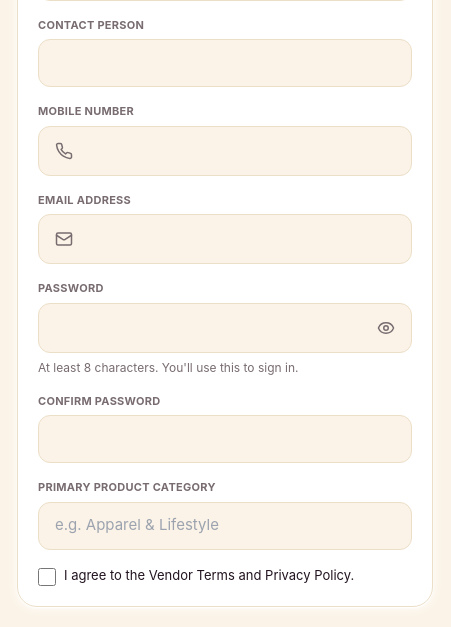
Register › shows a mismatch warning when confirm-password differs from password
(page scrolled)
Type "supersecret1" into the 1st password field. click: (212, 328)
box: [55,304,369,352]
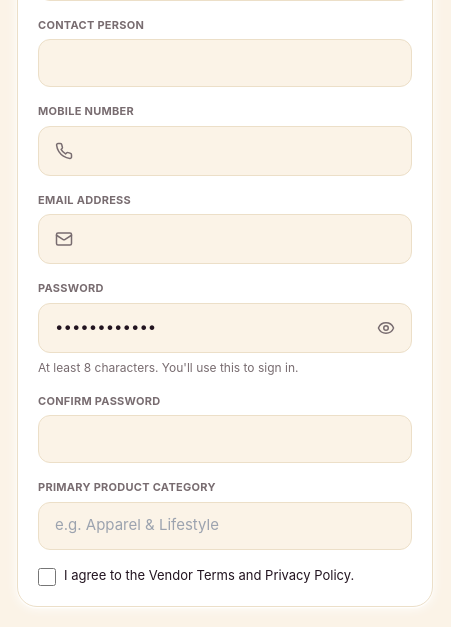
Type "different" into the password field below "Confirm password". click: (225, 439)
box: [38,415,412,463]
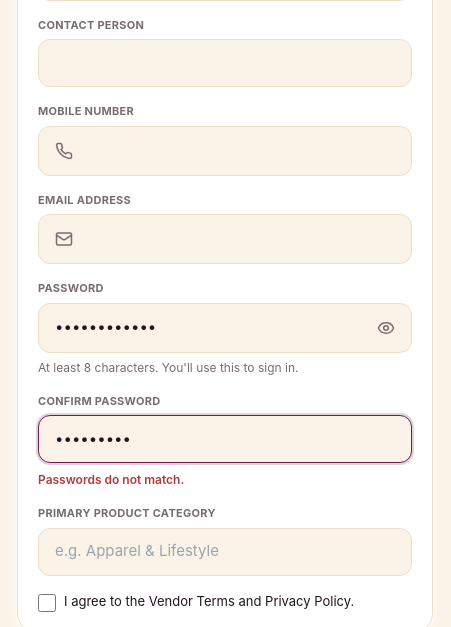
Expected: the text "Passwords do not match." is shown, [38,472,184,487]
